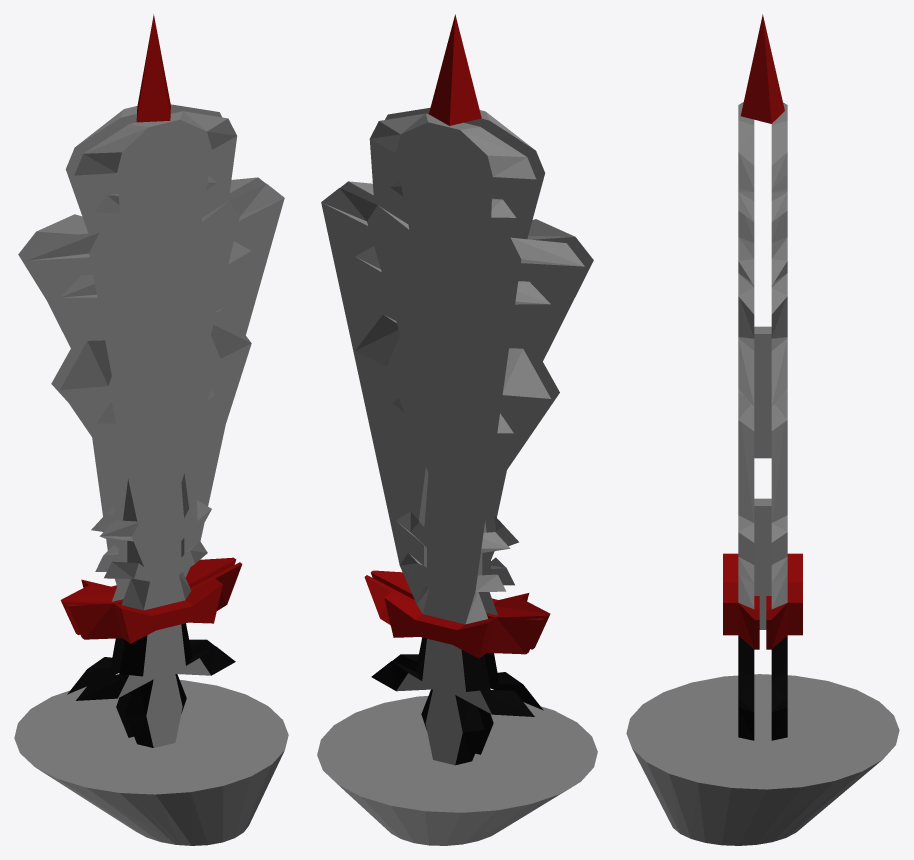
3 views of the same model, side by side, from view 1: azimuth 30°, elevation 25°; view 2: azimuth 150°, elevation 25°; view 3: azimuth 270°, elevation 25° (orthographic). The views are drawn at different scales.
Visible parts, largest first — view 1: Group2, Group1, Group5, Group6; view 2: Group5, Group1, Group2, Group6; view 3: Group1, Group2, Group5, Group6, Group4, Group3.
Part boxes in pixels (x1,y1,x2,y2): Group2: (27,111,284,747); Group1: (14,680,288,845); Group5: (18,104,265,737); Group6: (136,14,170,122); Group5: (321,113,584,765); Group1: (317,696,597,845); Group2: (340,108,593,754); Group6: (429,14,481,125); Group1: (626,674,899,845); Group2: (723,102,759,740); Group5: (766,102,802,740); Group6: (740,14,784,123); Group4: (754,326,771,458); Group3: (754,498,771,629).
Size of the model in its own units: 1.74 by 5.14 by 1.6.
